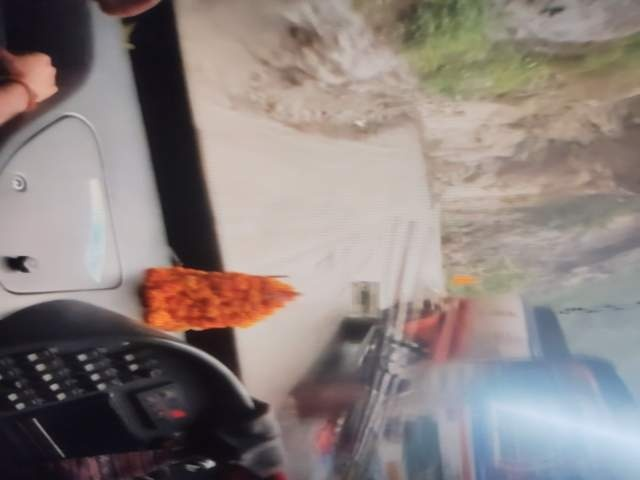pothole: (186, 311, 286, 391)
